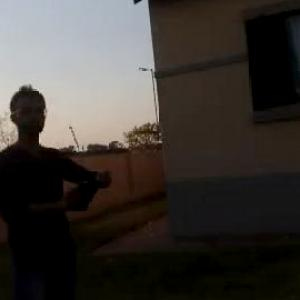follow: (1, 79, 120, 299)
